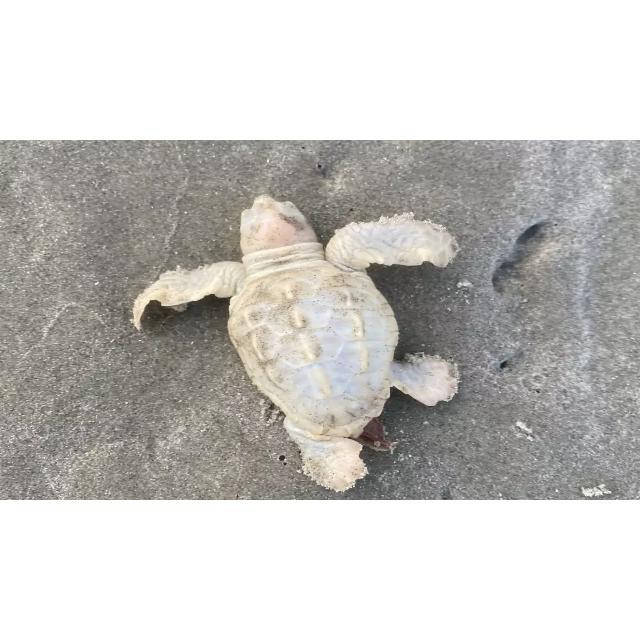turtle: (130, 194, 462, 494)
